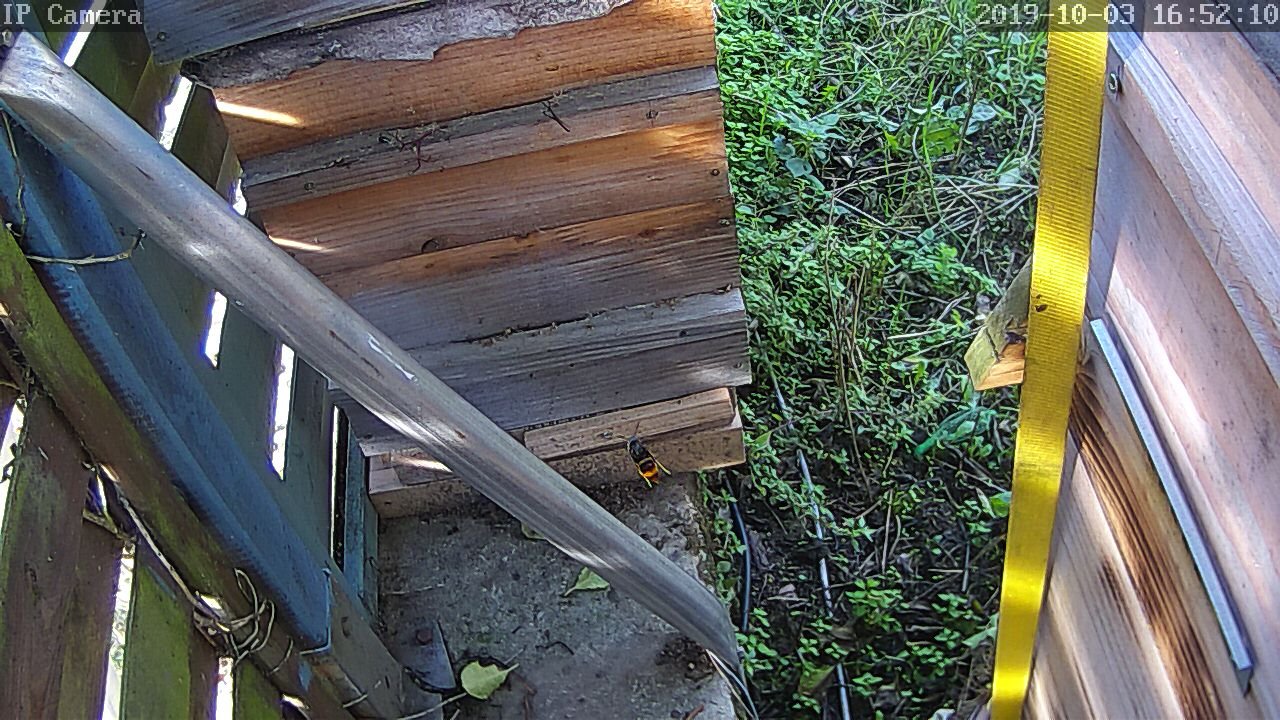hornet: (609, 430, 660, 490), (998, 312, 1029, 358)
